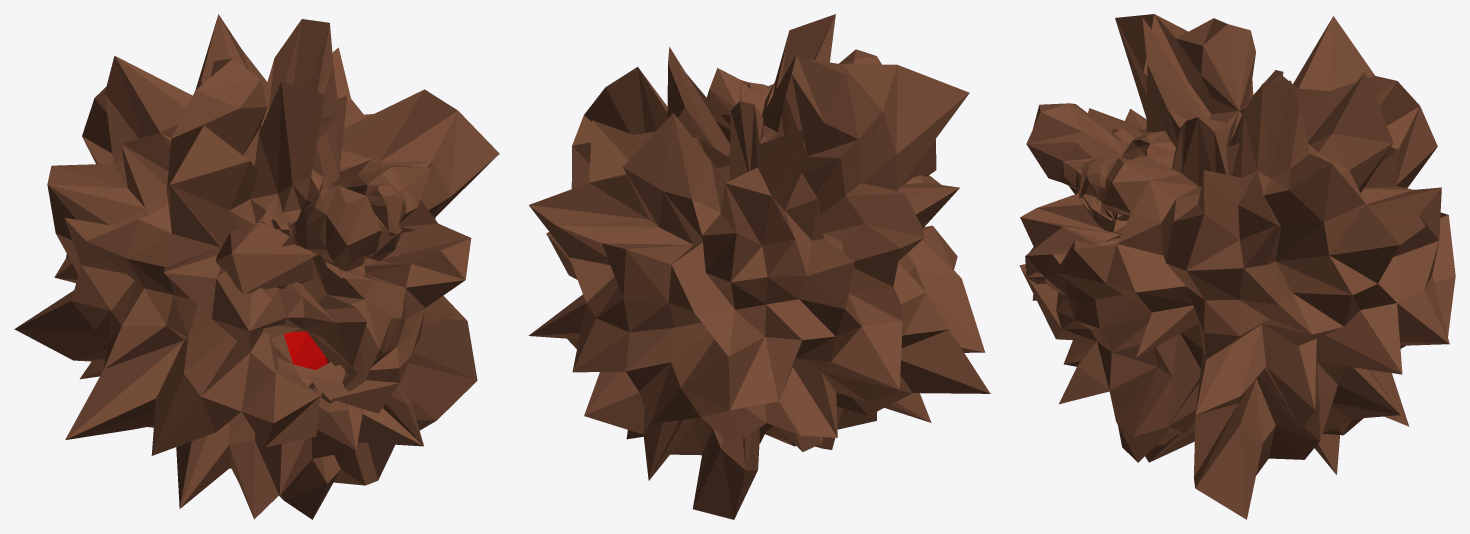
File: ChainedStatic.fbx
3 renders of one model, left to right at view 1: azimuth 30°, elevation 25°; view 2: azimuth 150°, elevation 25°; view 3: azimuth 270°, elevation 25°, orthographic. The views are drawn at different scales.
Parts seen in each view (by area): view 1: HeadDebris; view 2: HeadDebris; view 3: HeadDebris.
Boxes of the visible parts, <box> form: HeadDebris: <box>14,14,499,519</box>; HeadDebris: <box>528,14,990,519</box>; HeadDebris: <box>1019,14,1455,519</box>.
Size of the model in its own units: 554 by 566 by 509.
